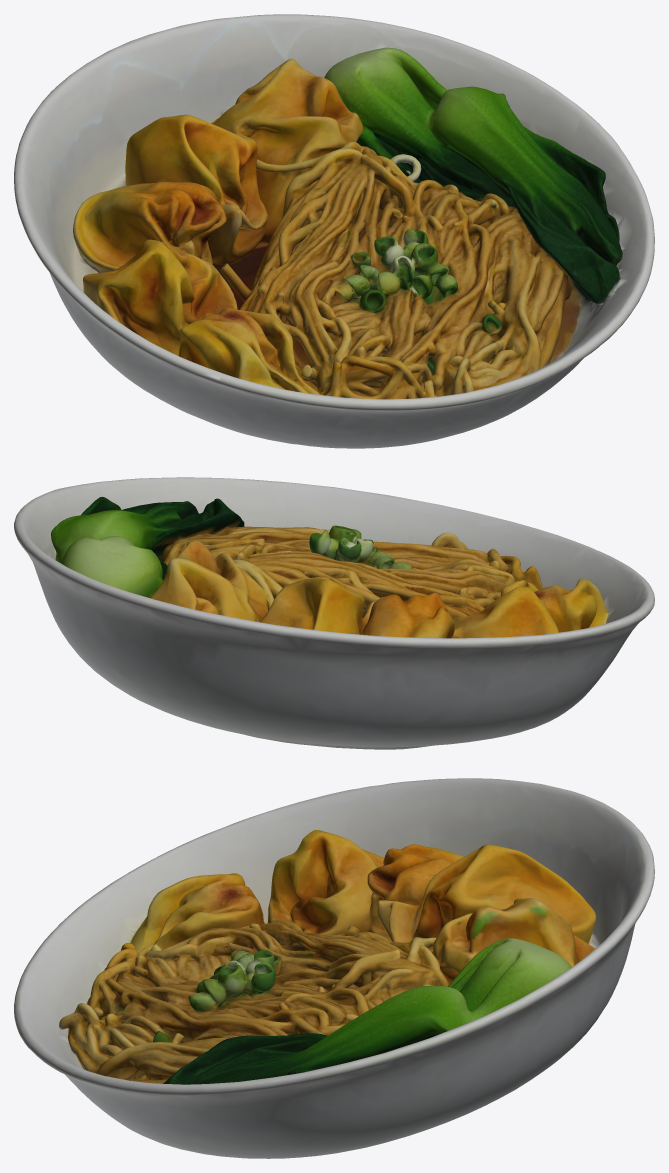
Rendered from dry-wonton-noodles.glb.
3 views of the same model, one above another, from view 1: azimuth 30°, elevation 25°; view 2: azimuth 150°, elevation 25°; view 3: azimuth 270°, elevation 25° (orthographic).
Visible parts, largest first — view 1: tripo_node_1ee24a13-da4e-4c90-930c-45f150b7597d; view 2: tripo_node_1ee24a13-da4e-4c90-930c-45f150b7597d; view 3: tripo_node_1ee24a13-da4e-4c90-930c-45f150b7597d.
Part boxes in pixels (left/top/right/bottom): tripo_node_1ee24a13-da4e-4c90-930c-45f150b7597d: left=14, top=14, right=654, bottom=448; tripo_node_1ee24a13-da4e-4c90-930c-45f150b7597d: left=14, top=477, right=654, bottom=749; tripo_node_1ee24a13-da4e-4c90-930c-45f150b7597d: left=14, top=778, right=654, bottom=1158.
Bounding box in the file's own units: 0.9998 × 0.3952 × 0.9751.
1 material, 1 textured.
